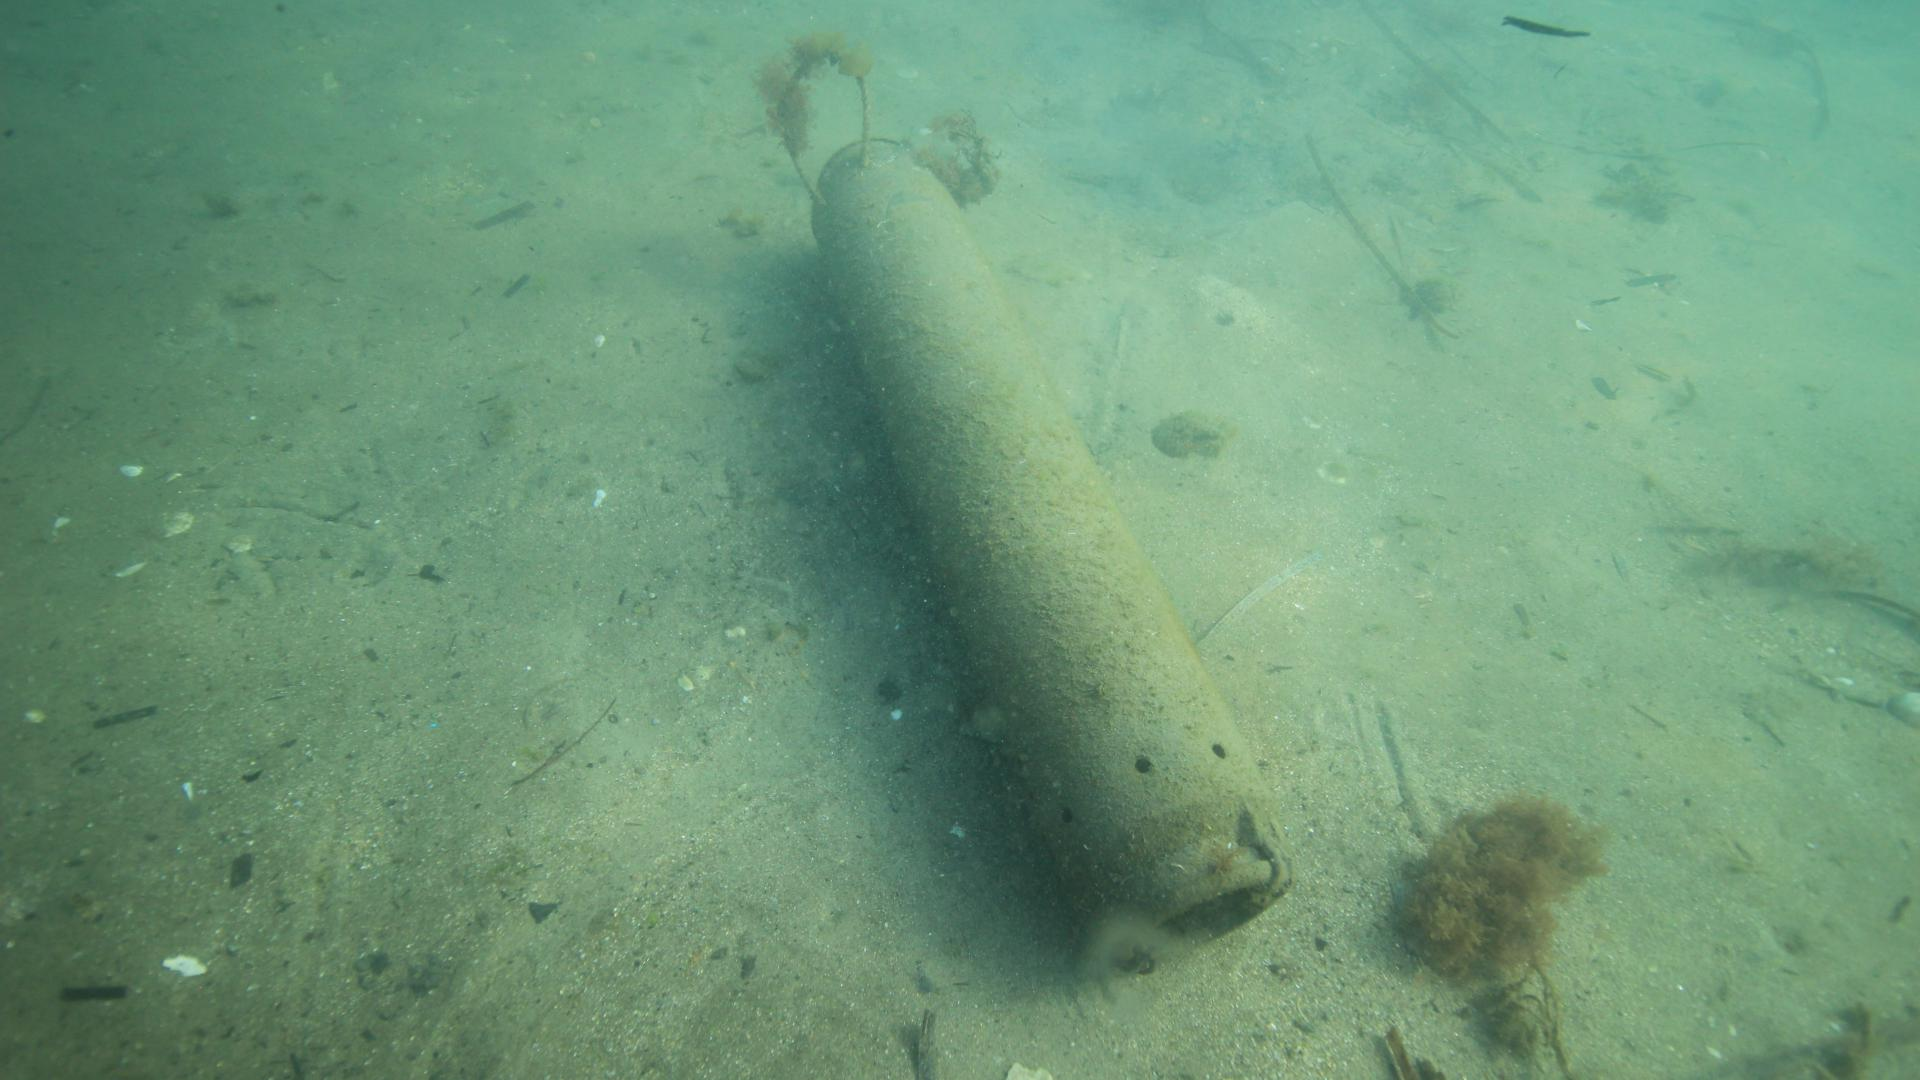eel fish trap: (787, 140, 1288, 972)
rope: (781, 44, 882, 208)
